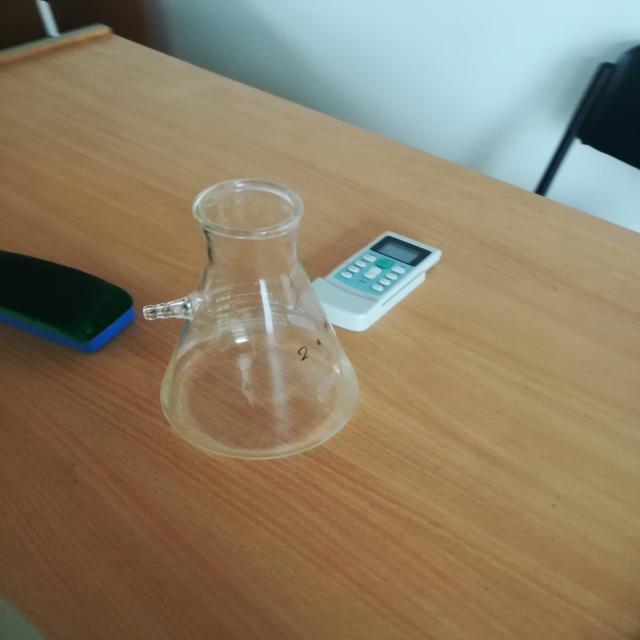Conical_Flask: (136, 149, 395, 485)
